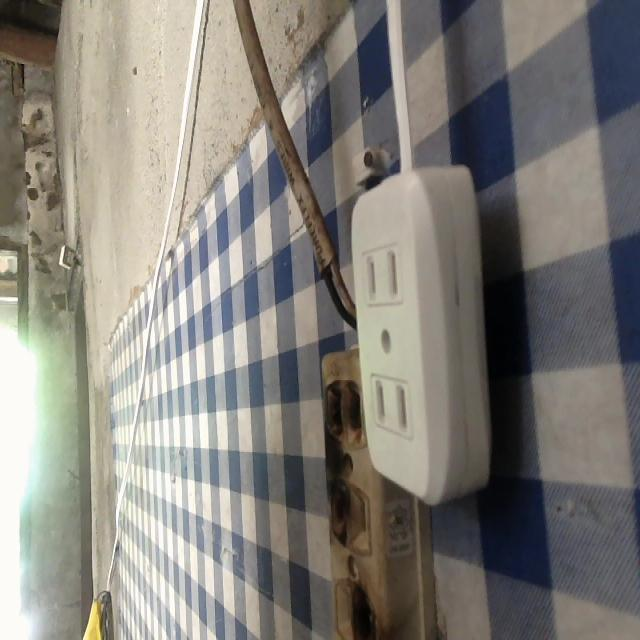-: (313, 371, 371, 452), (318, 471, 355, 556), (344, 577, 384, 639)
